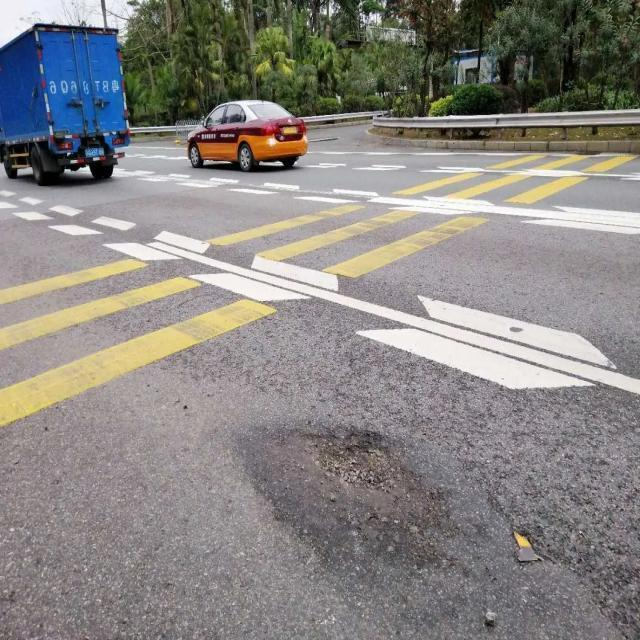pothole: (248, 424, 426, 561)
